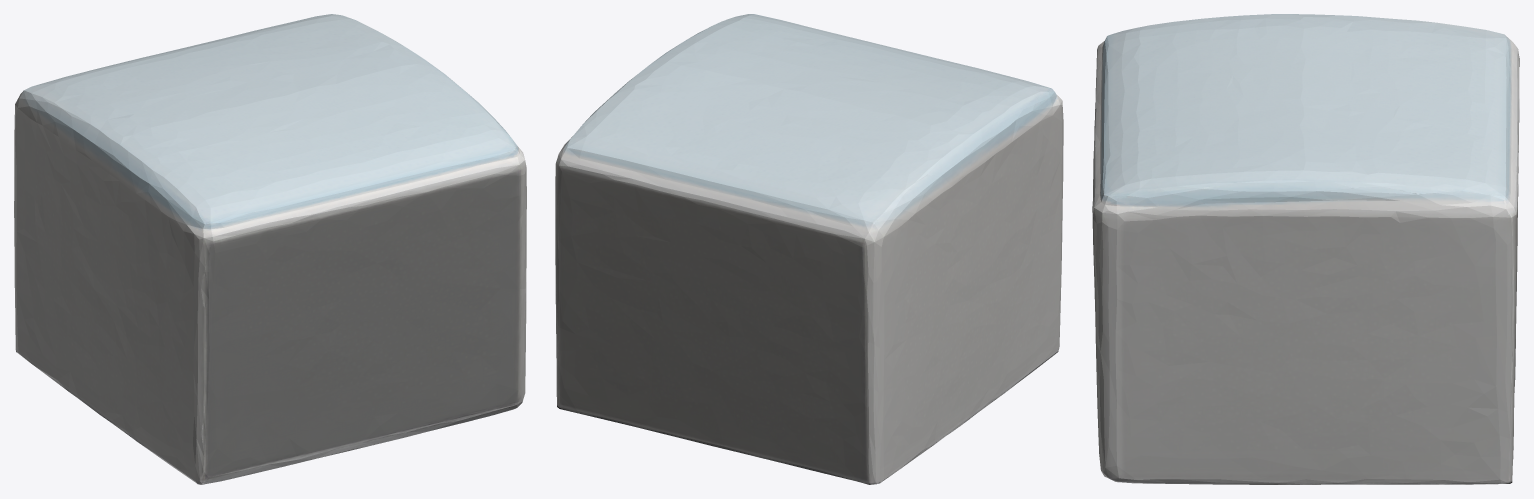
3 renders of one model, left to right at view 1: azimuth 30°, elevation 25°; view 2: azimuth 150°, elevation 25°; view 3: azimuth 270°, elevation 25°, orthographic. The views are drawn at different scales.
Visible parts, largest first — view 1: world; view 2: world; view 3: world.
Boxes of the visible parts, left/top/right/bottom form: world: left=14, top=14, right=526, bottom=484; world: left=555, top=14, right=1063, bottom=484; world: left=1092, top=14, right=1519, bottom=484.
Bounding box in the file's own units: 0.3364 × 0.2693 × 0.338.
1 material, 1 textured.
